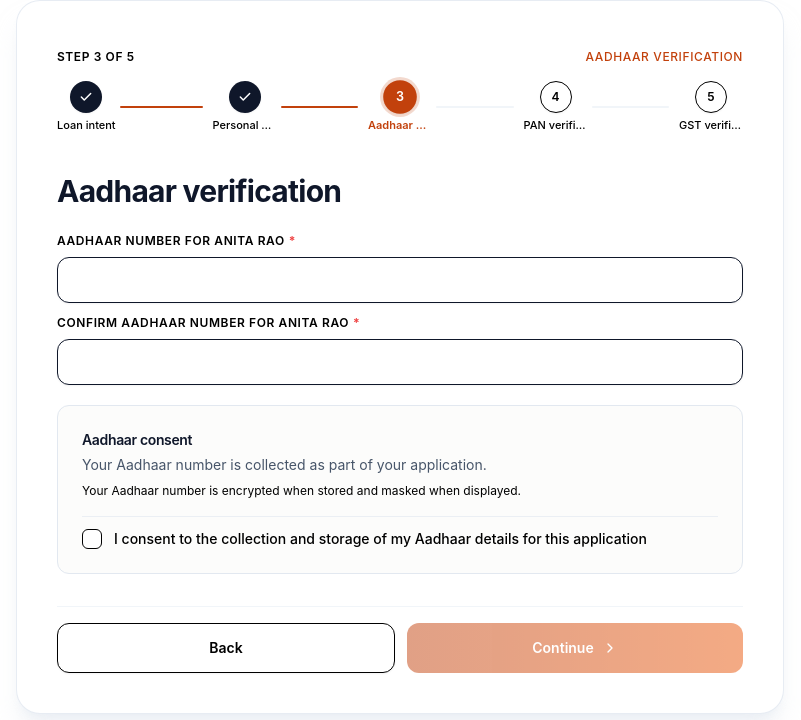
Test case: WizardShell Phase 3 browser integration › requires a nonblank Aadhaar confirmation and rejects a mismatch
Expected: the heading "Aadhaar verification" is shown, [57,173,341,209]
Type "123412341234" into the field labelled "Aadhaar number for Anita Rao" at x=400, y=280, box [57,257,743,303]
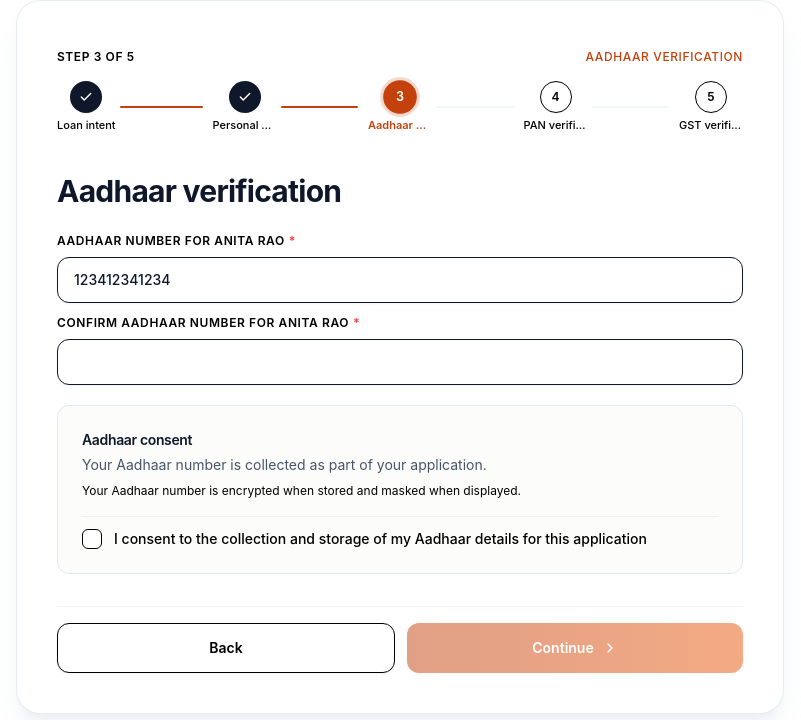
Click the checkbox named "Aadhaar consent" at x=400, y=532, box [82,516,718,549]
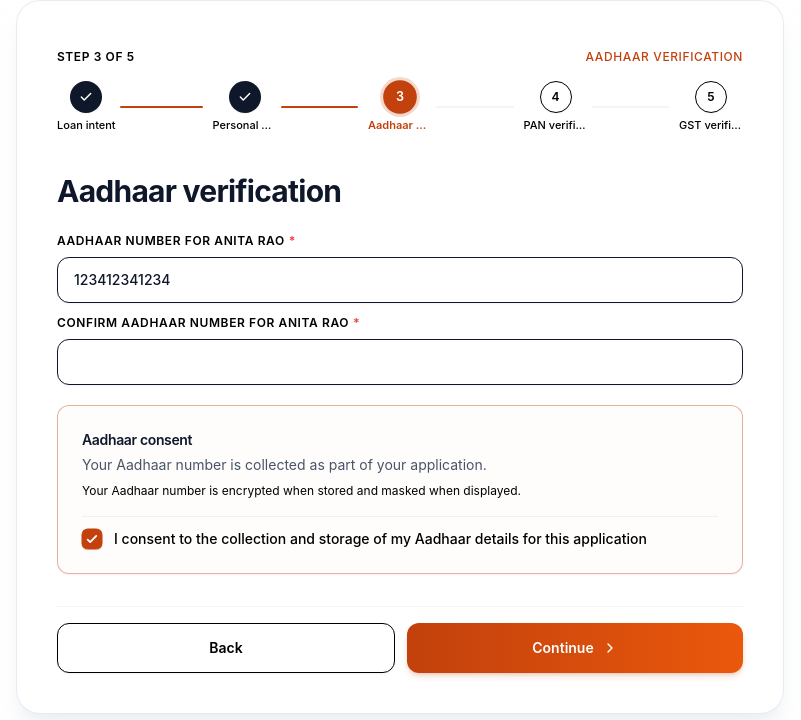
Click the button "Continue" at x=575, y=648, box [407,623,743,673]
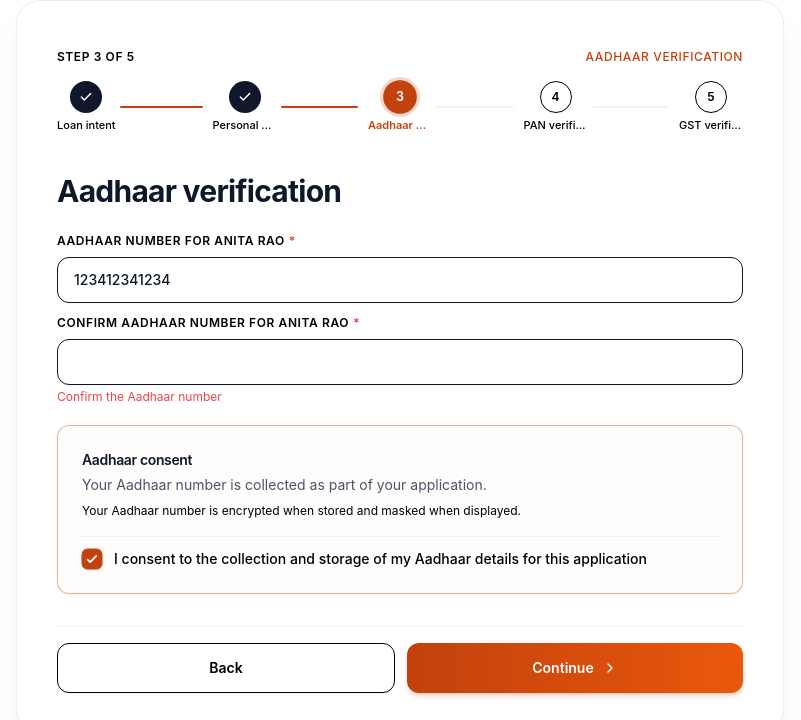
Result: the text "Confirm the Aadhaar number" is shown at [57,389,222,404]
Type "123412341235" into the field labelled "Confirm Aadhaar number for Anita Rao" at x=400, y=362, box [57,339,743,385]
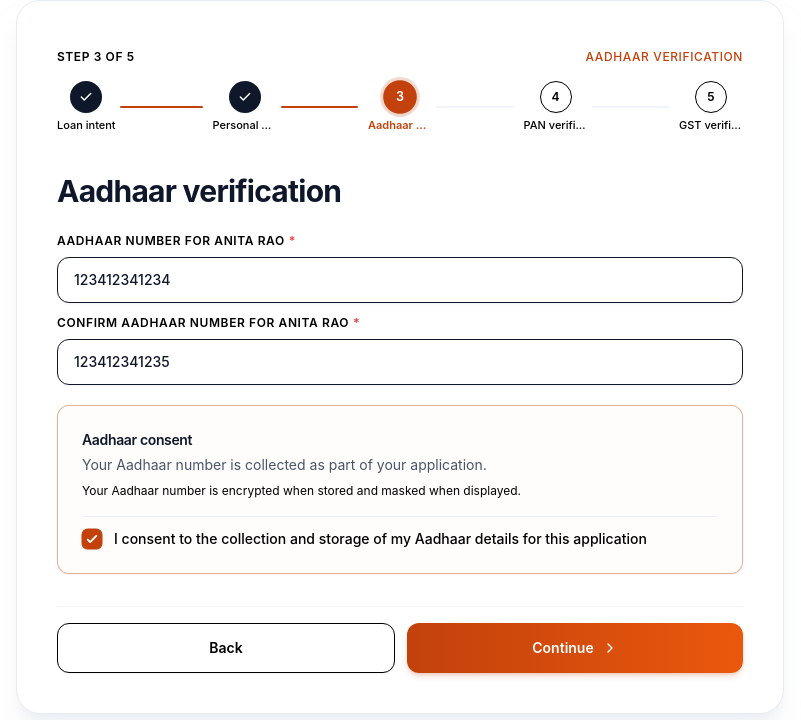
Click the button "Continue" at x=575, y=648, box [407,623,743,673]
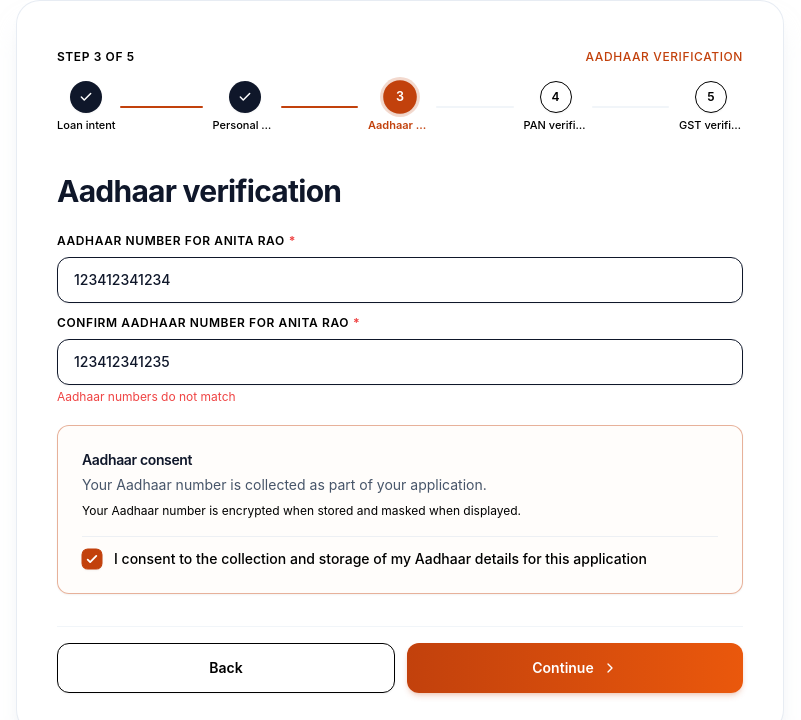
Result: the text "Aadhaar numbers do not match" is shown at [57,389,236,404]
